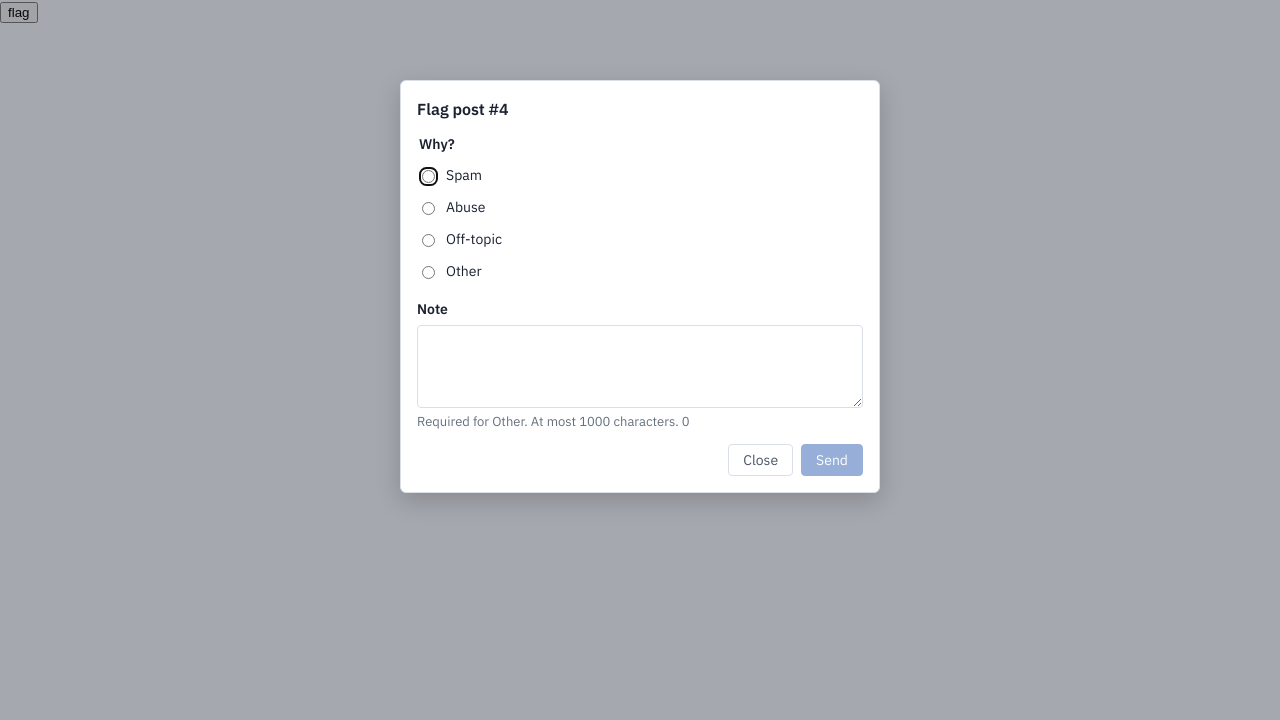
the flag dialog › the receipt says thanks and nothing else
Click the radio button labelled "Spam": (428, 177) [422,170,435,184]
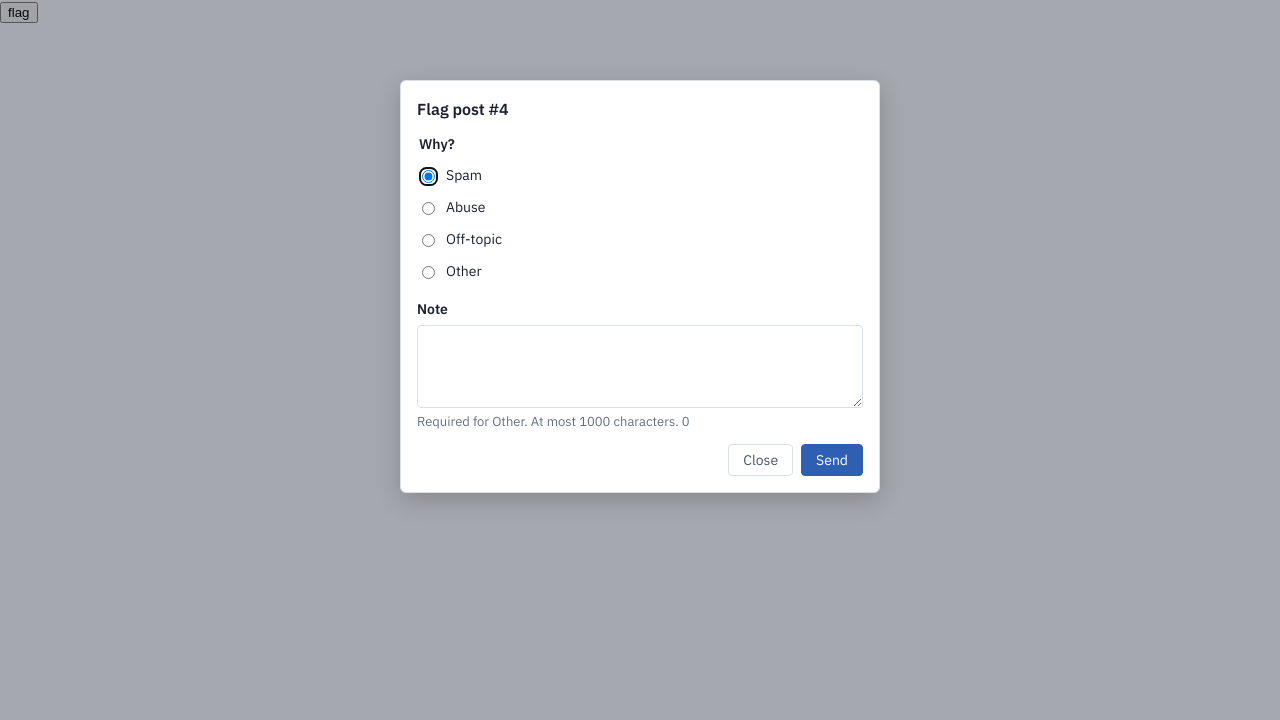
Click the button with class "flag-send": (832, 460) [801,444,863,476]
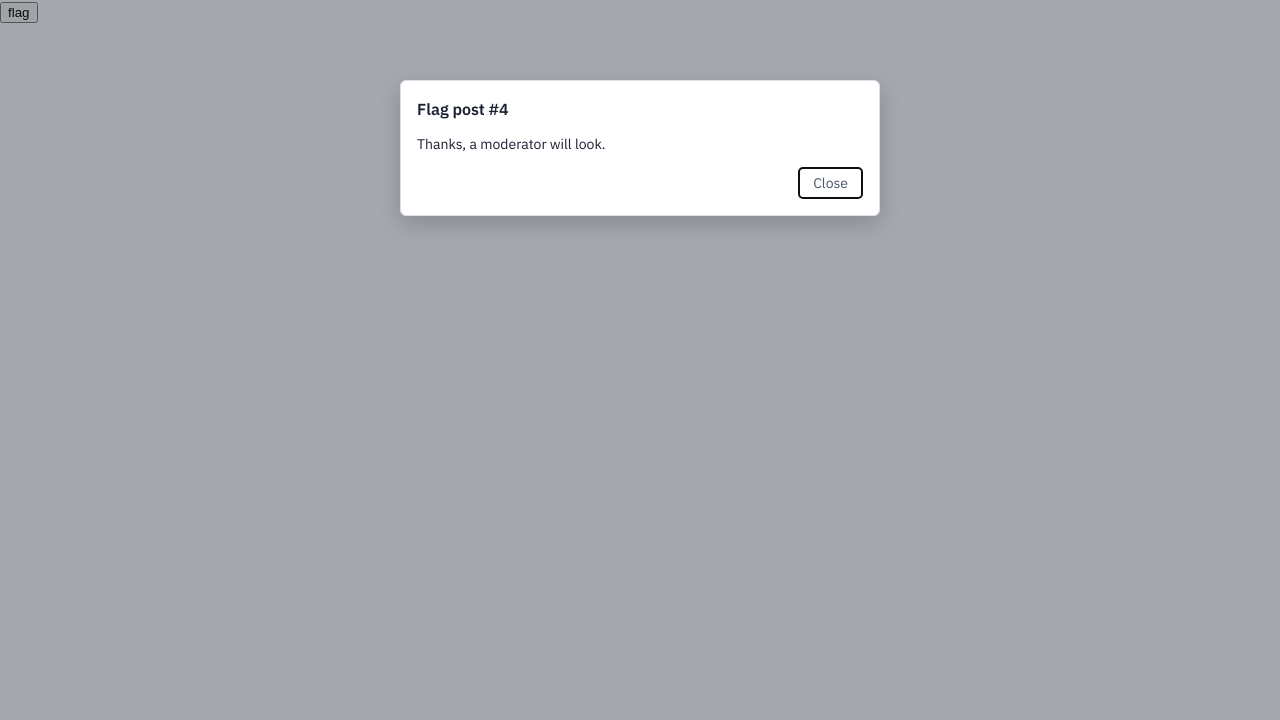
Expected: the form is gone
